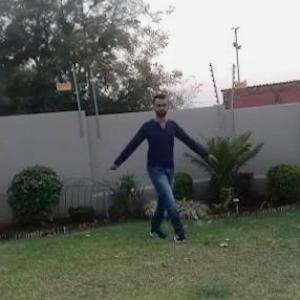land: (108, 100, 210, 234)
